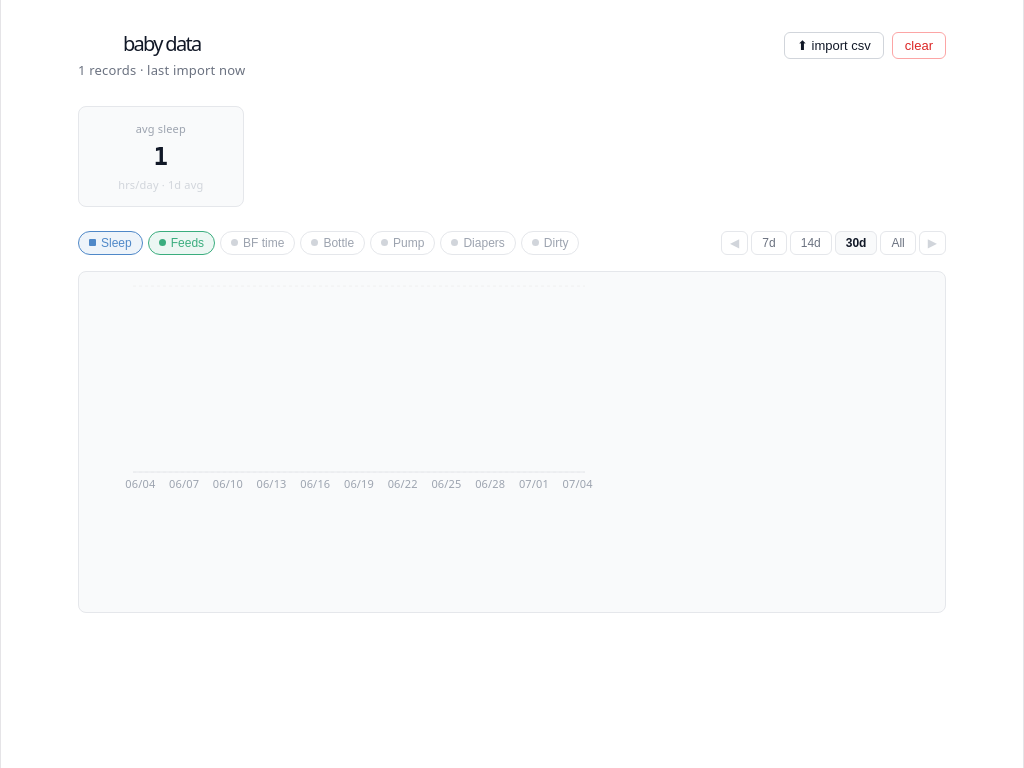
Scenario: NaraAnalytics stat cards › toggling a pill off hides its card, on brings it back
Click the button "Sleep": coordinates (110, 243) top-left (78, 231), bottom-right (143, 255)
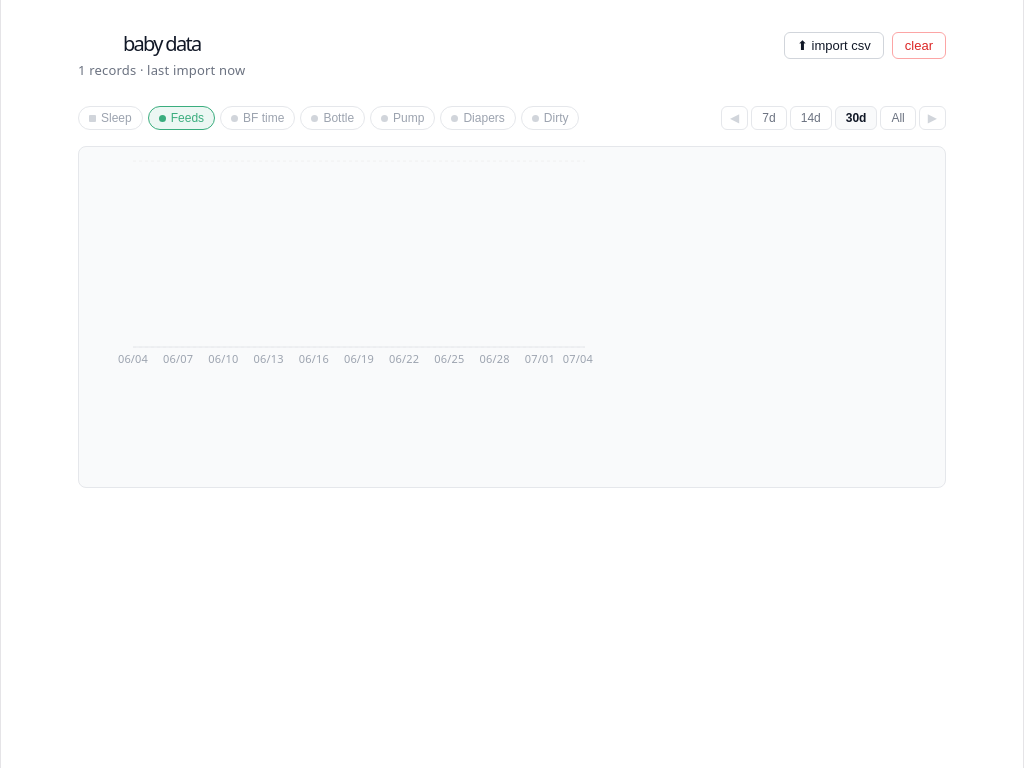
Now the element with test id "stat-card-sleep_hours" is gone
Click the button "Sleep": coordinates (110, 118) top-left (78, 106), bottom-right (143, 130)
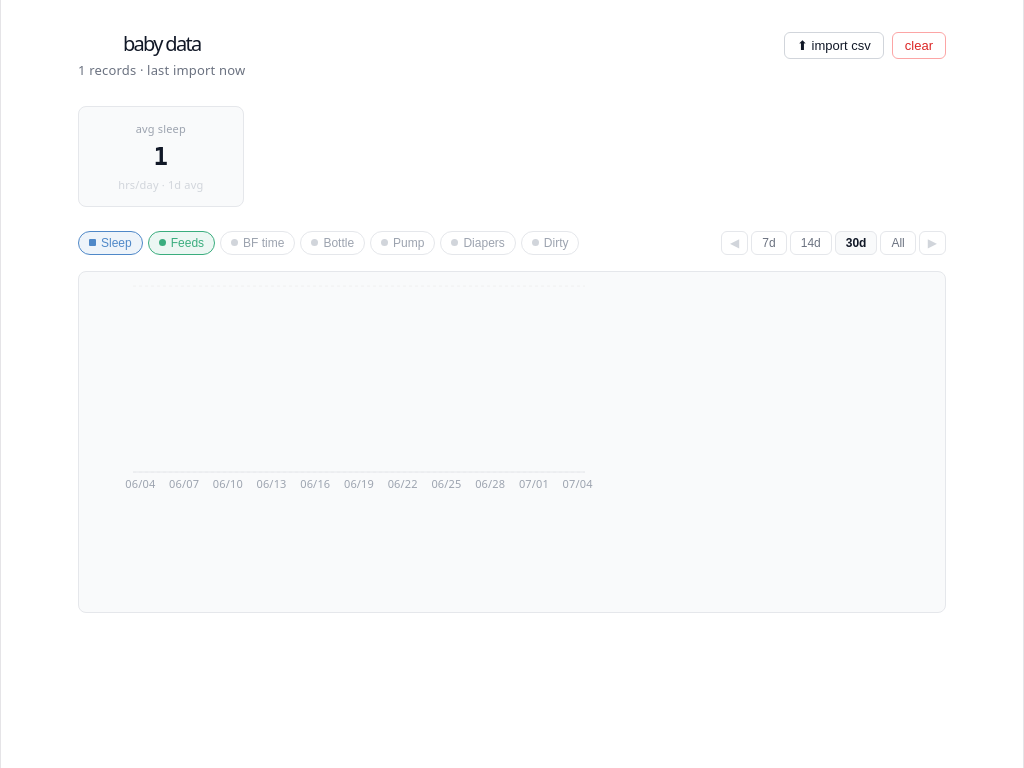
Now the element with test id "stat-card-sleep_hours" is shown, box top-left (78, 106), bottom-right (244, 207)
